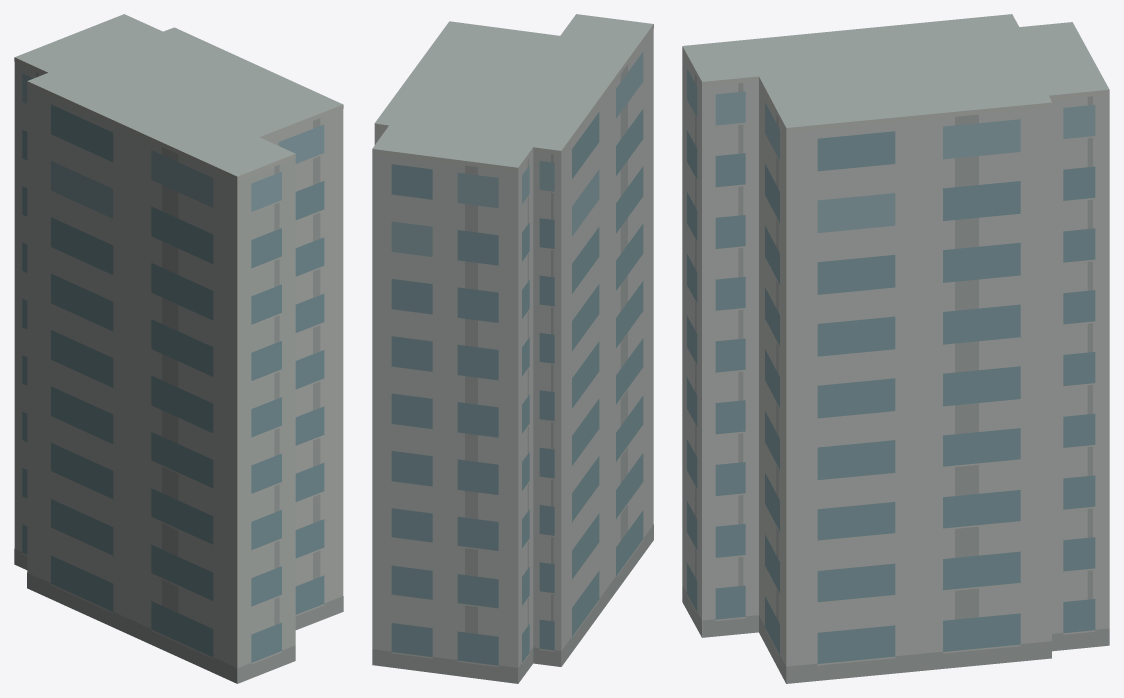
File: survey-upis-32800068.glb
3 views of the same model, side by side, from view 1: azimuth 30°, elevation 25°; view 2: azimuth 150°, elevation 25°; view 3: azimuth 270°, elevation 25° (orthographic). The views are drawn at different scales.
Parts seen in each view (by area): view 1: survey-upis-32800068.tmp; view 2: survey-upis-32800068.tmp; view 3: survey-upis-32800068.tmp.
Part boxes in pixels (x1,y1,x2,y2): survey-upis-32800068.tmp: (14,14,343,683); survey-upis-32800068.tmp: (372,14,653,683); survey-upis-32800068.tmp: (682,14,1109,683).
Size of the model in its own units: 12.12 by 27.55 by 19.2.
